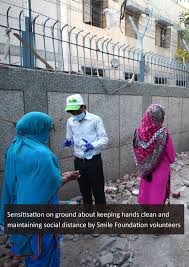mask: (65, 105, 85, 121)
